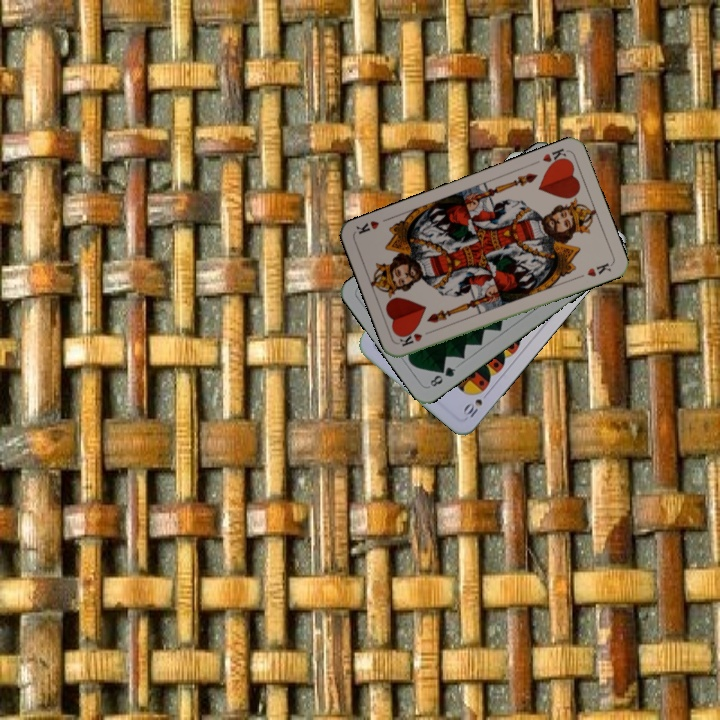G8: (426, 363, 458, 389)
HK: (396, 326, 436, 349), (538, 144, 571, 170)
S10: (459, 387, 492, 421)
